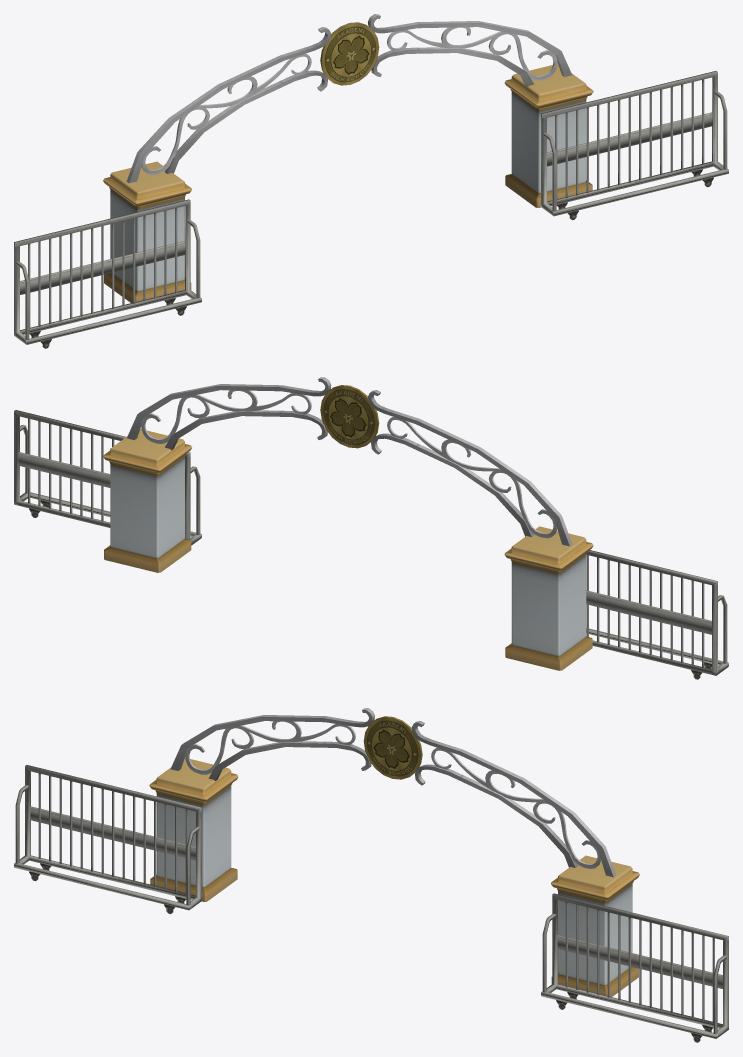
Rendered from Gate.fbx.
3 views of the same model, one above another, from view 1: azimuth 30°, elevation 25°; view 2: azimuth 150°, elevation 25°; view 3: azimuth 330°, elevation 25° (orthographic).
Parts seen in each view (by area): view 1: Gate, Left Gate, Right Gate; view 2: Gate, Right Gate, Left Gate; view 3: Gate, Left Gate, Right Gate.
Part boxes in pixels (x1,y1,x2,y2): Gate: (103, 14, 593, 302); Left Gate: (541, 71, 728, 220); Right Gate: (14, 199, 201, 348); Gate: (103, 377, 593, 670); Right Gate: (586, 550, 728, 679); Left Gate: (14, 410, 201, 545); Gate: (149, 708, 639, 996); Left Gate: (541, 893, 728, 1042); Right Gate: (14, 765, 201, 914).
Size of the model in its own units: 18.65 by 5.73 by 2.13.
